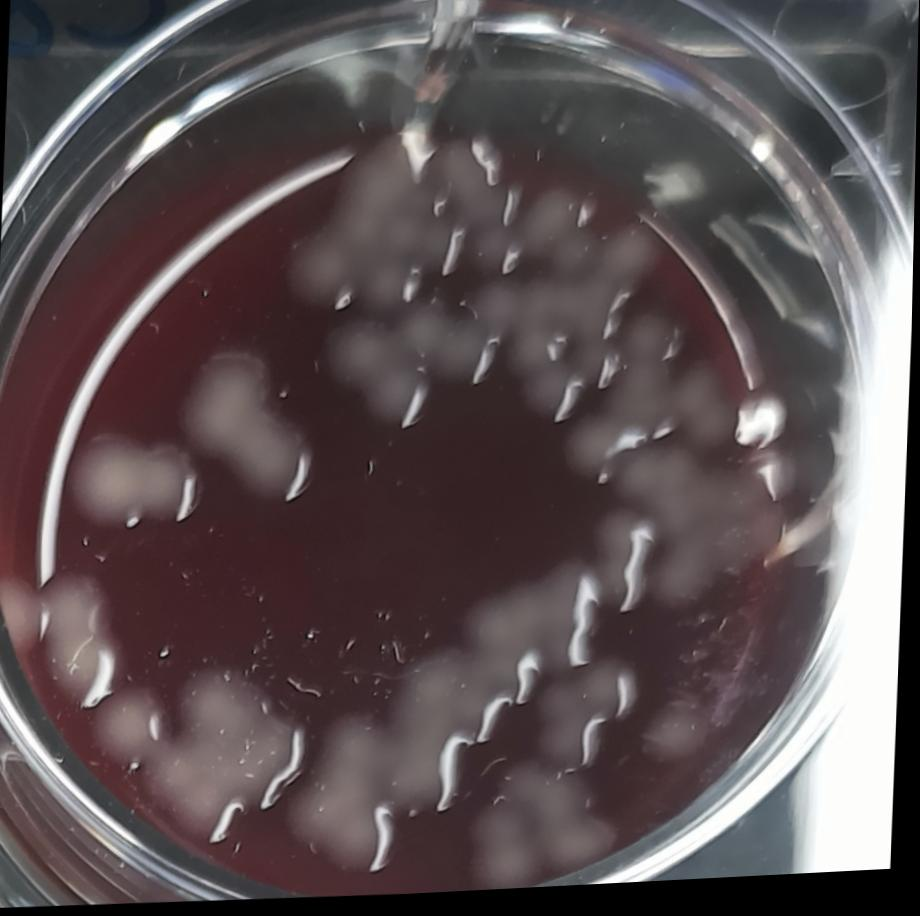vharveyi: (293, 560, 606, 886), (278, 118, 525, 321), (151, 661, 311, 850), (182, 345, 323, 513), (567, 317, 689, 503), (319, 313, 443, 442), (63, 425, 207, 534), (32, 560, 131, 711), (527, 664, 639, 776), (470, 799, 549, 896), (590, 518, 660, 626)
